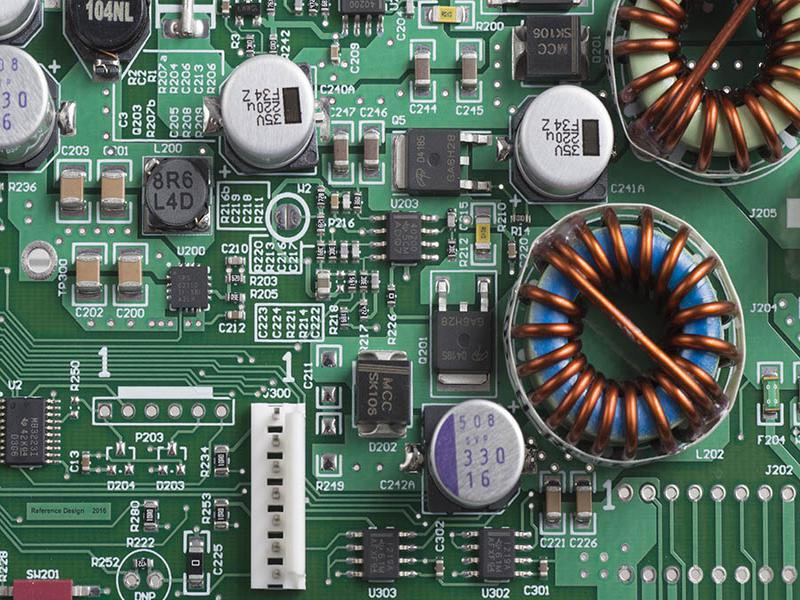SMD capacitor: (118, 247, 144, 300), (75, 245, 100, 298), (360, 121, 382, 175), (103, 166, 129, 209), (410, 46, 433, 93), (62, 166, 87, 209), (574, 479, 595, 529), (332, 127, 353, 176), (460, 43, 480, 89), (544, 482, 563, 525), (224, 253, 244, 268), (330, 37, 339, 66), (318, 271, 328, 292), (227, 309, 242, 321)
SMD resistor: (211, 498, 228, 532), (213, 445, 227, 477), (142, 501, 154, 529), (447, 238, 458, 261), (329, 237, 337, 264), (387, 285, 397, 305), (358, 301, 369, 319), (318, 242, 326, 263), (339, 309, 348, 326), (361, 272, 369, 291), (355, 193, 361, 214)
inductor_chunk: (145, 157, 211, 229)
